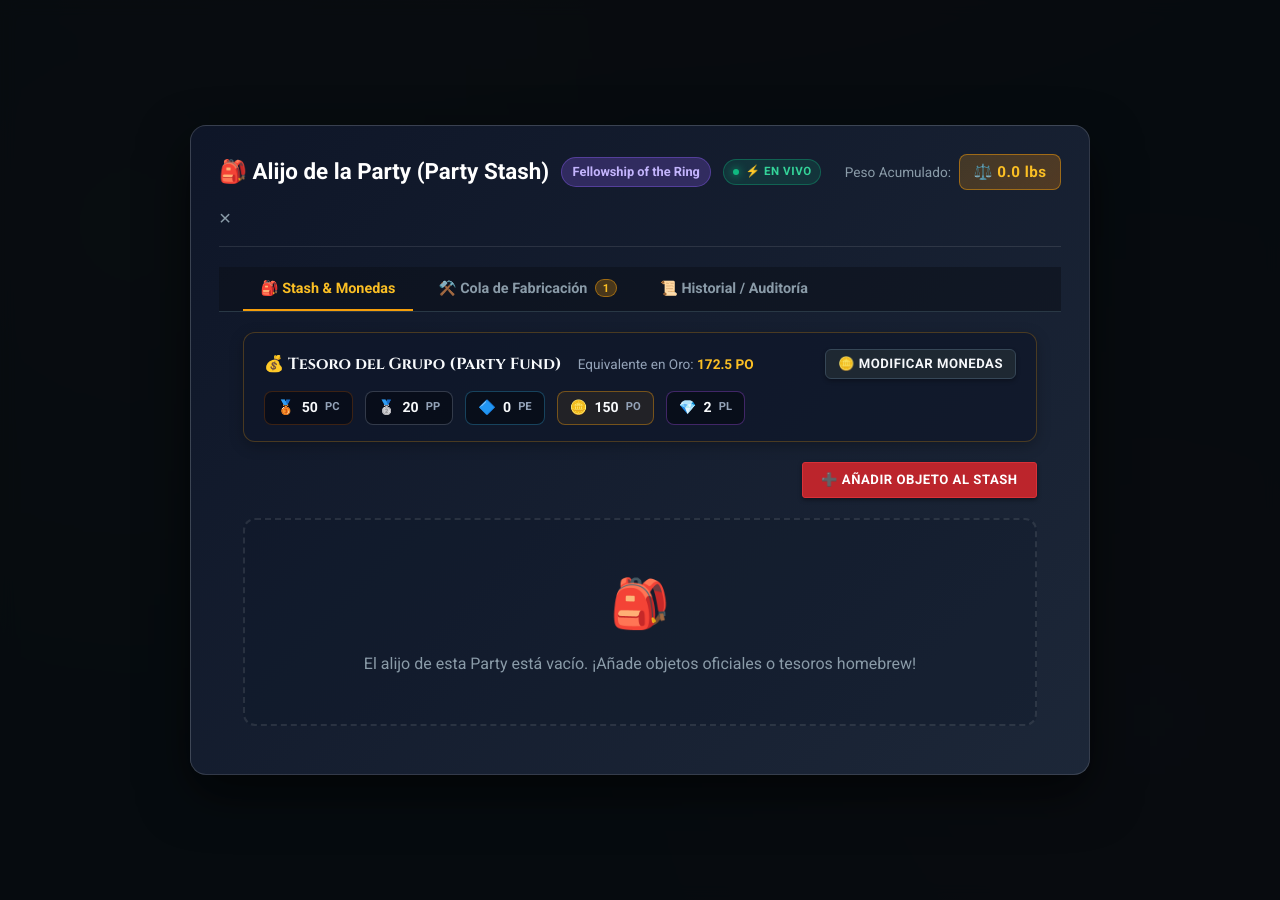
PartyStashModal Component Suite with QoL Features › switches to Activity Log tab and displays chronological transaction history
Note: Switch to Logs tab
Click the tab with id "tab-logs-btn" at coordinates (734, 289), box [642,267,826,311]
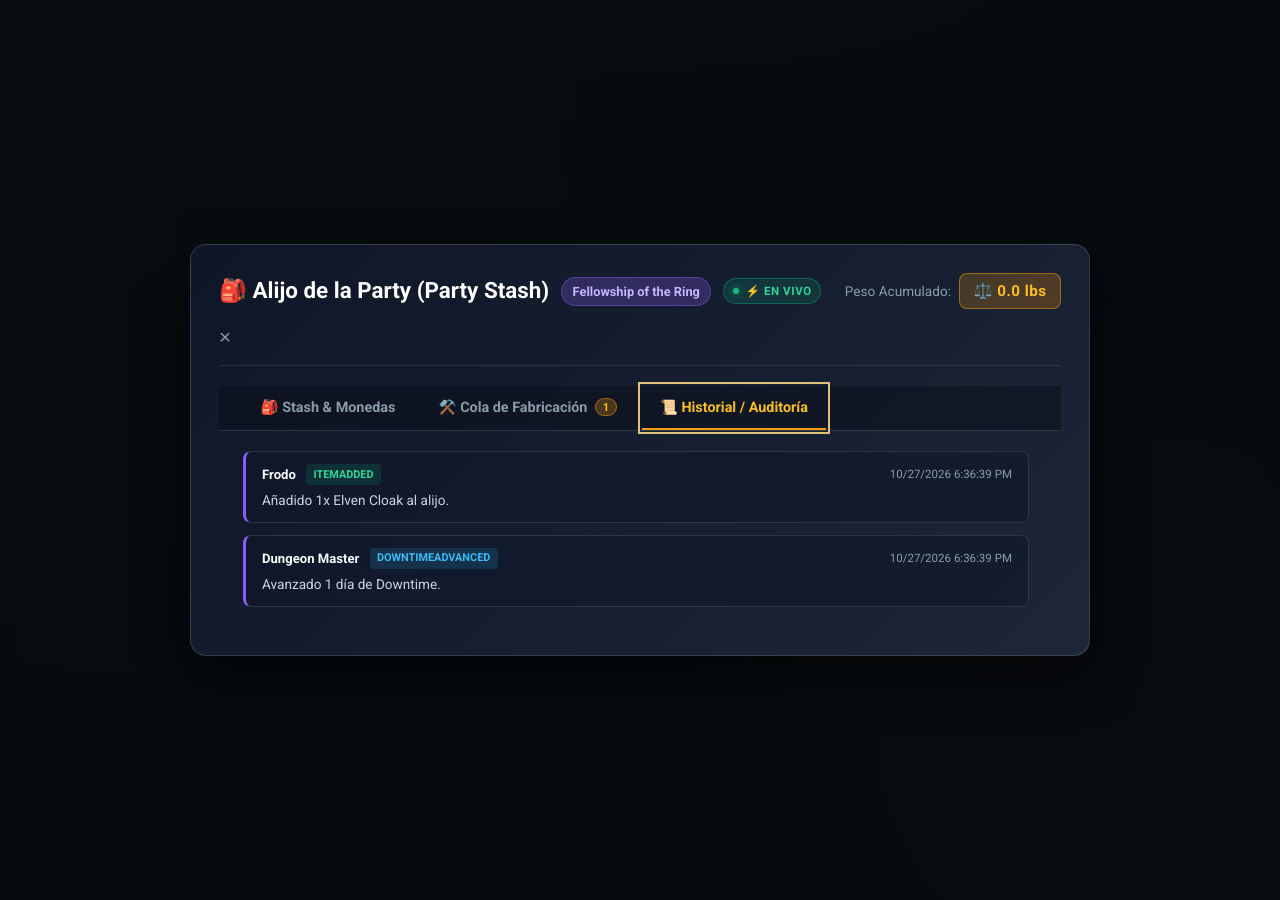
Check: the text "Frodo" is shown, box [262,465,296,485]
Check: the text "Añadido 1x Elven Cloak al alijo." is shown, box [262,492,449,508]
Check: the text "Dungeon Master" is shown, box [262,549,359,568]
